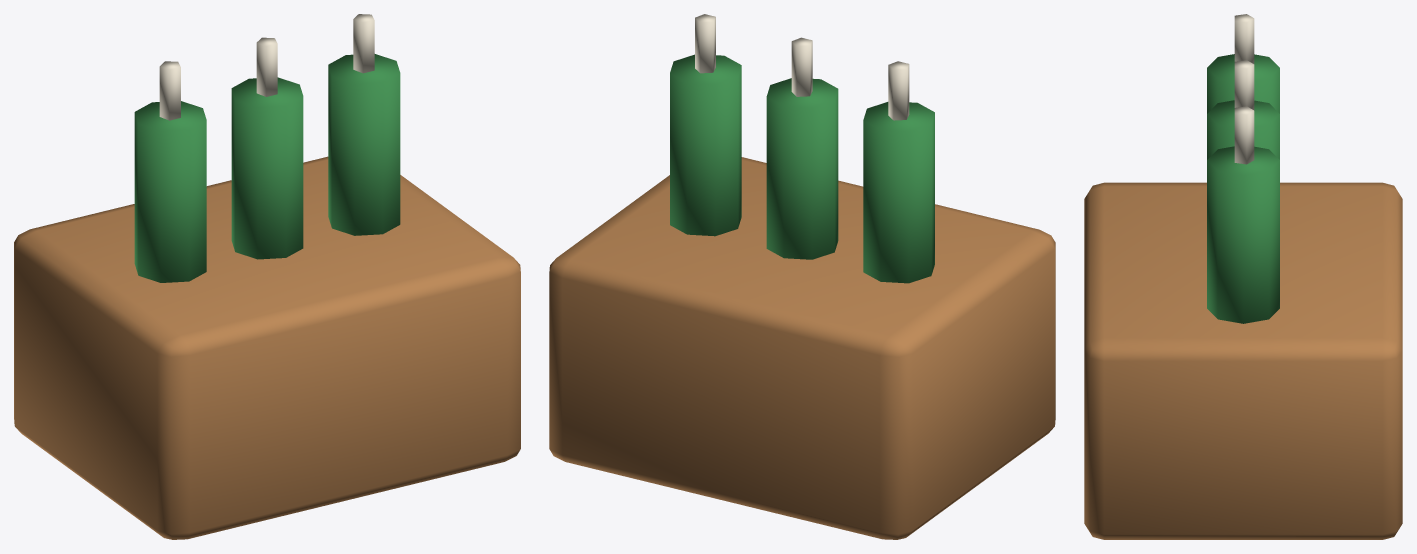
File: prop_pickup_molotov.glb
3 renders of one model, left to right at view 1: azimuth 30°, elevation 25°; view 2: azimuth 150°, elevation 25°; view 3: azimuth 270°, elevation 25°, orthographic. The views are drawn at different scales.
Parts seen in each view (by area): view 1: pickup_molotov; view 2: pickup_molotov; view 3: pickup_molotov.
Part boxes in pixels (<box>): pickup_molotov: <box>14,14,520,539</box>; pickup_molotov: <box>549,14,1055,539</box>; pickup_molotov: <box>1084,14,1402,539</box>.
Size of the model in its own units: 0.45 by 0.48 by 0.35.
